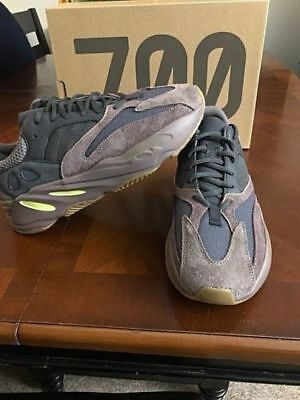adidas Yeezy 700 Mauve: (1, 80, 213, 245), (163, 89, 270, 325)
